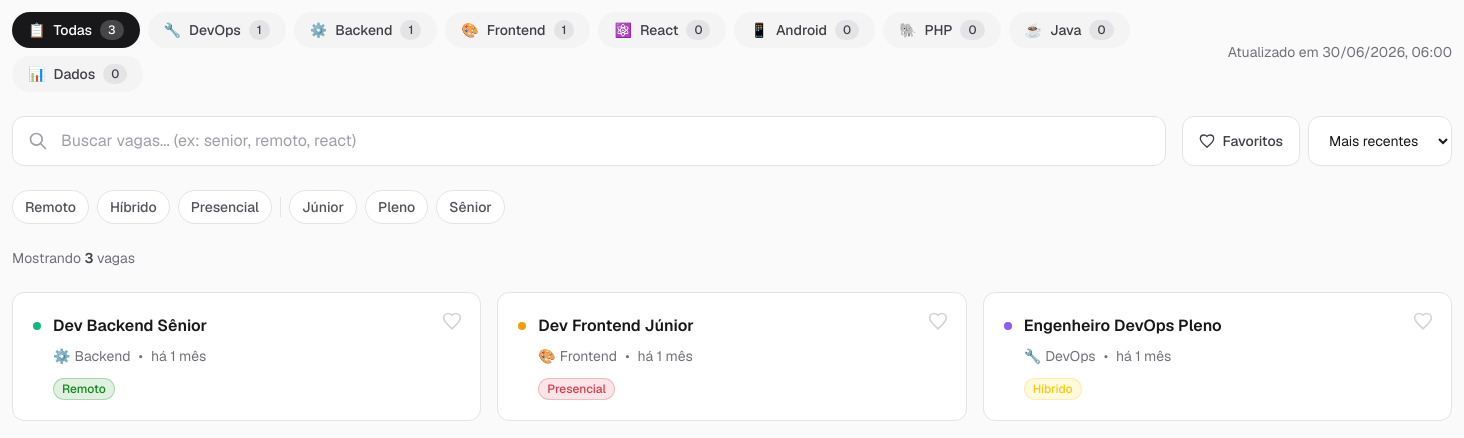
Test: JobBoard › toggles the remote facet filter
Step 1. Click the button "Remoto" → (51, 207), box [12,190,89,224]
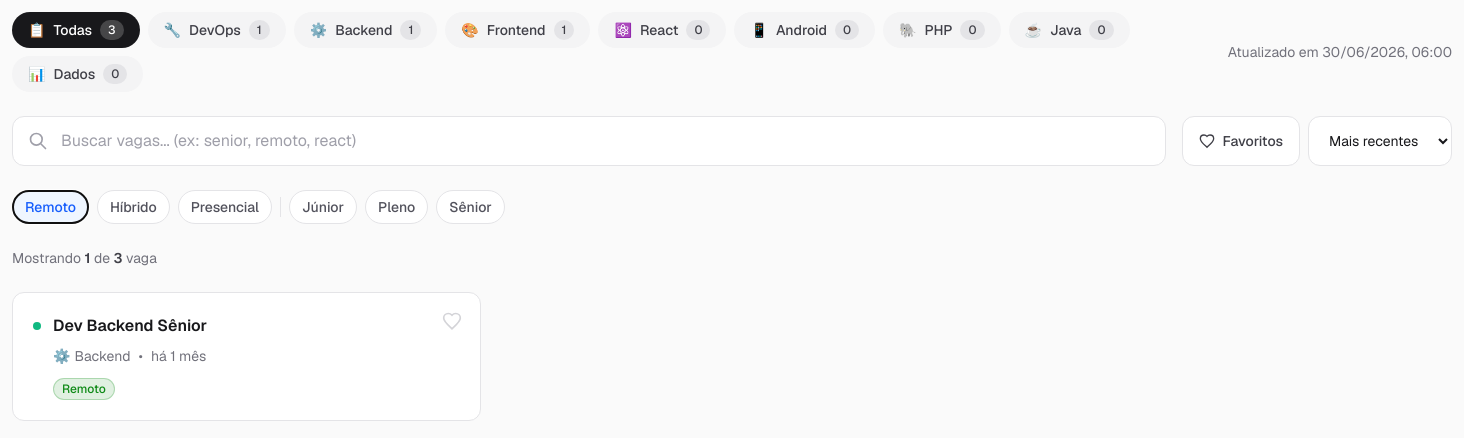
Step 2. Click the button "Remoto" → (51, 207), box [12,190,89,224]
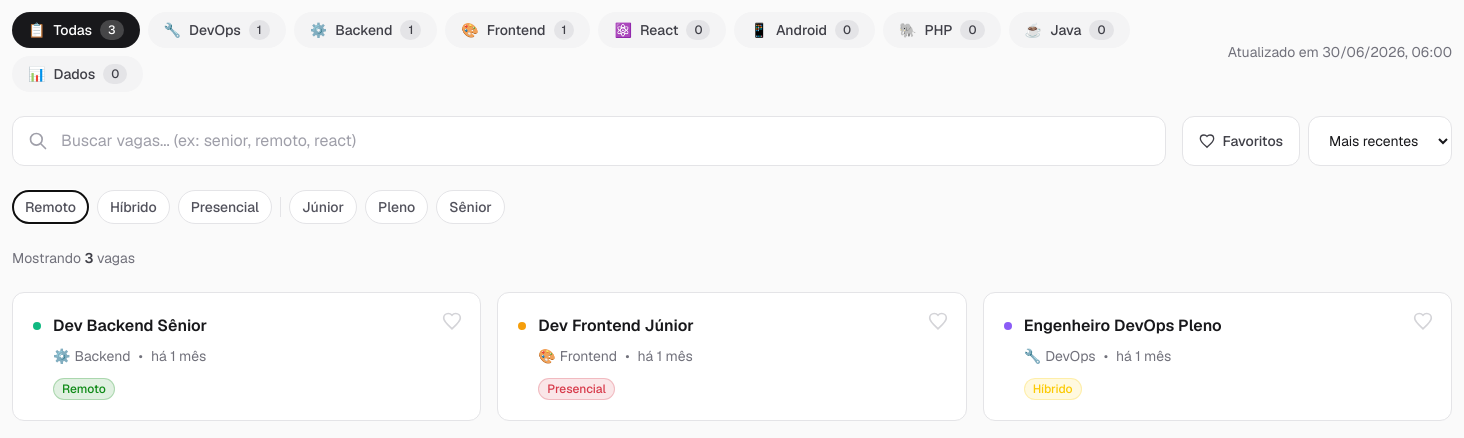
Expected: the number of headings is 3, [53,315,207,336]; [538,315,694,336]; [1024,315,1222,336]
